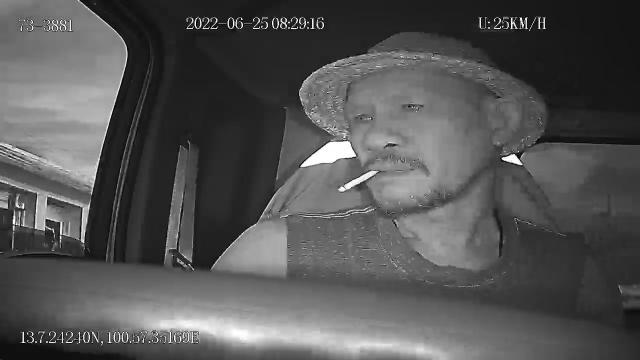SafeDriving: (394, 94, 431, 116), (348, 108, 380, 128)
Smoking: (338, 168, 380, 194)
